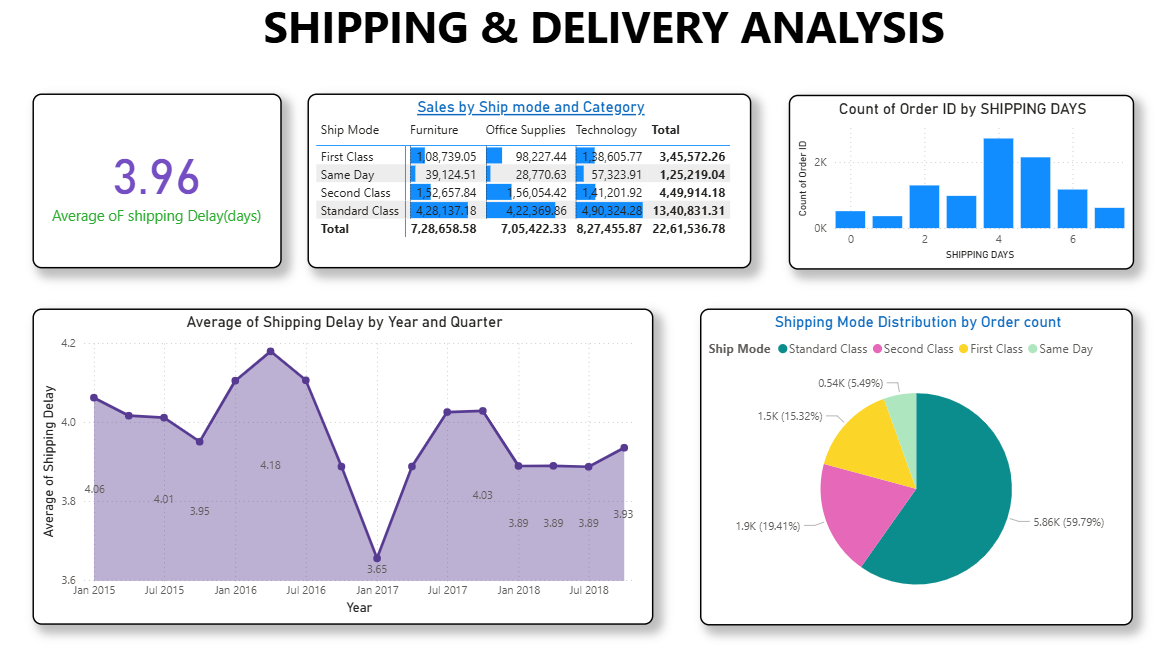

What the dashboard file says about the page in this screenshot:
{"tool":"powerbi","page":{"name":"SDA","canvas":[1280,720],"ordinal":2},"visuals":[{"type":"textbox","box":[289.5,0,771.2,85.1],"z":0},{"type":"card","fields":{"Values":["Avg(SalesData.SHIPPING DAYS)"]},"box":[40.7,112.8,273.3,191.9],"z":1000},{"type":"pivotTable","title":"Sales by Ship mode and Category","fields":{"Rows":["SalesData.Ship Mode"],"Values":["Sum(SalesData.Sales)"],"Columns":["SalesData.Category"]},"box":[343,112.8,487.2,191.9],"z":2000},{"type":"clusteredColumnChart","fields":{"Category":["SalesData.SHIPPING DAYS"],"Y":["CountNonNull(SalesData.Order ID)"]},"box":[870.9,113.2,378.9,191.6],"z":3000},{"type":"stackedAreaChart","fields":{"Y":["Avg(SalesData.SHIPPING DAYS)"],"Category":["SalesData.Order Date.Variation.Date Hierarchy.Year","SalesData.Order Date.Variation.Date Hierarchy.Quarter","SalesData.Order Date.Variation.Date Hierarchy.Month"]},"box":[41.2,348.5,682,347.2],"z":4000},{"type":"pieChart","title":"Shipping Mode Distribution by Order count","fields":{"Category":["SalesData.Ship Mode"],"Y":["CountNonNull(SalesData.Order ID)"]},"box":[774.4,348.8,475.6,347.7],"z":5000}]}

Visuals, with their boxes in screenshot pixels (x1, y1, x2, y2), scaled from the page's 1280x720 canvas onto the 1160x645 screenshot:
textbox: BBox(262, 0, 961, 76)
card - Avg(SalesData.SHIPPING DAYS): BBox(37, 101, 285, 273)
"Sales by Ship mode and Category" pivotTable: BBox(311, 101, 752, 273)
clusteredColumnChart - SalesData.SHIPPING DAYS x CountNonNull(SalesData.Order ID): BBox(789, 101, 1133, 273)
stackedAreaChart - Avg(SalesData.SHIPPING DAYS) x SalesData.Order Date.Variation.Date Hierarchy.Year: BBox(37, 312, 655, 623)
"Shipping Mode Distribution by Order count" pieChart: BBox(702, 312, 1133, 624)
